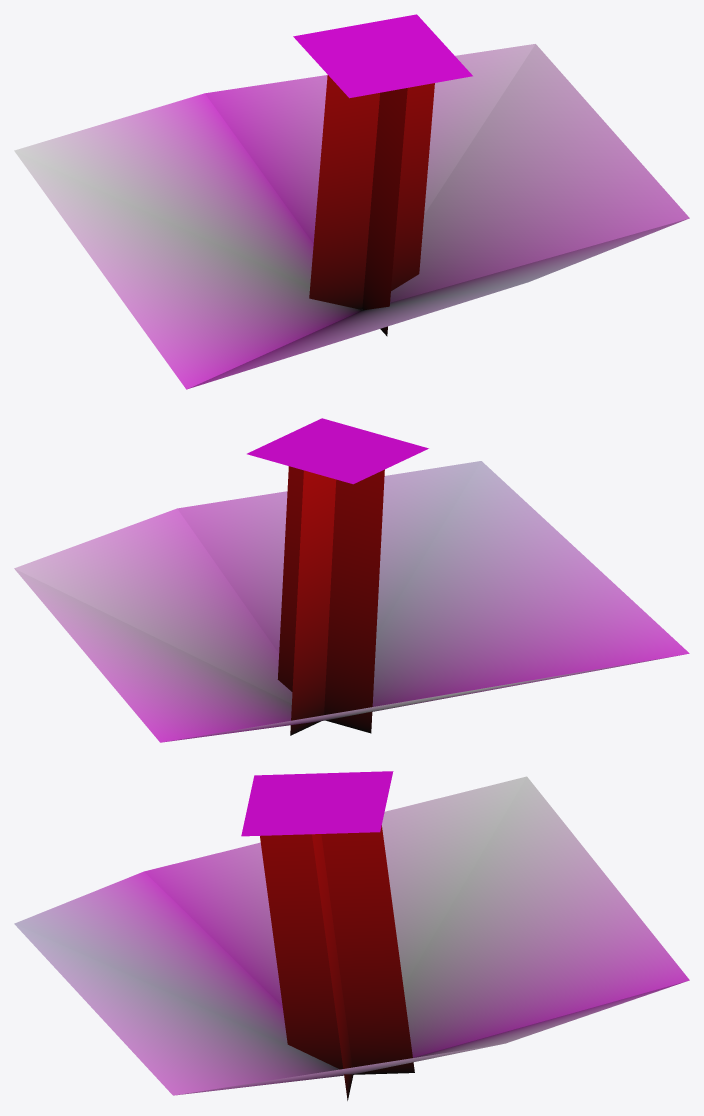
File: dandelion_01_clock.dae
The picture shows the model from 3 angles, top to bottom: view 1: azimuth 30°, elevation 25°; view 2: azimuth 150°, elevation 25°; view 3: azimuth 270°, elevation 25°; orthographic projection. The views are drawn at different scales.
Visible parts, largest first — view 1: dandelion_clock8; view 2: dandelion_clock8; view 3: dandelion_clock8.
Boxes of the visible parts, bbox=[...] form: dandelion_clock8: bbox=[14, 14, 689, 389]; dandelion_clock8: bbox=[14, 418, 689, 742]; dandelion_clock8: bbox=[14, 771, 689, 1100].
Bounding box in the file's own units: 0.2431 × 0.2635 × 0.1217.
